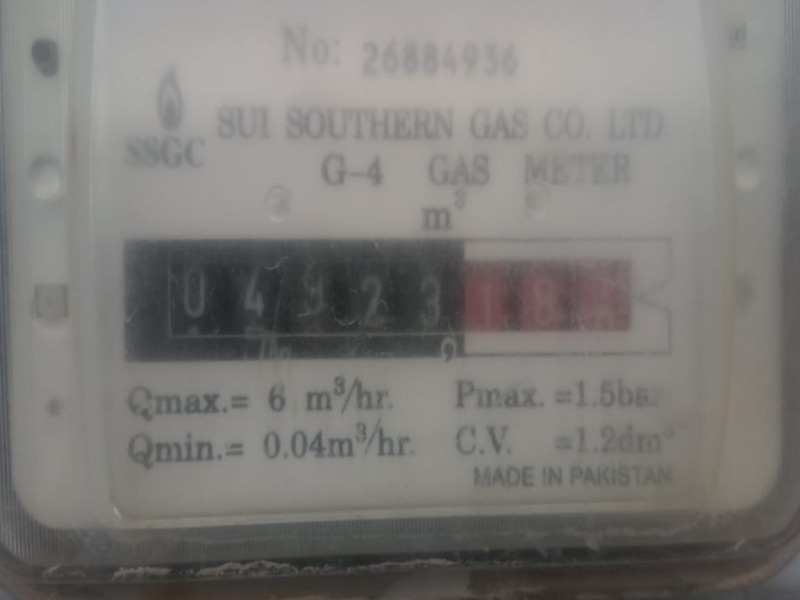ssgc: (147, 246, 656, 352)
